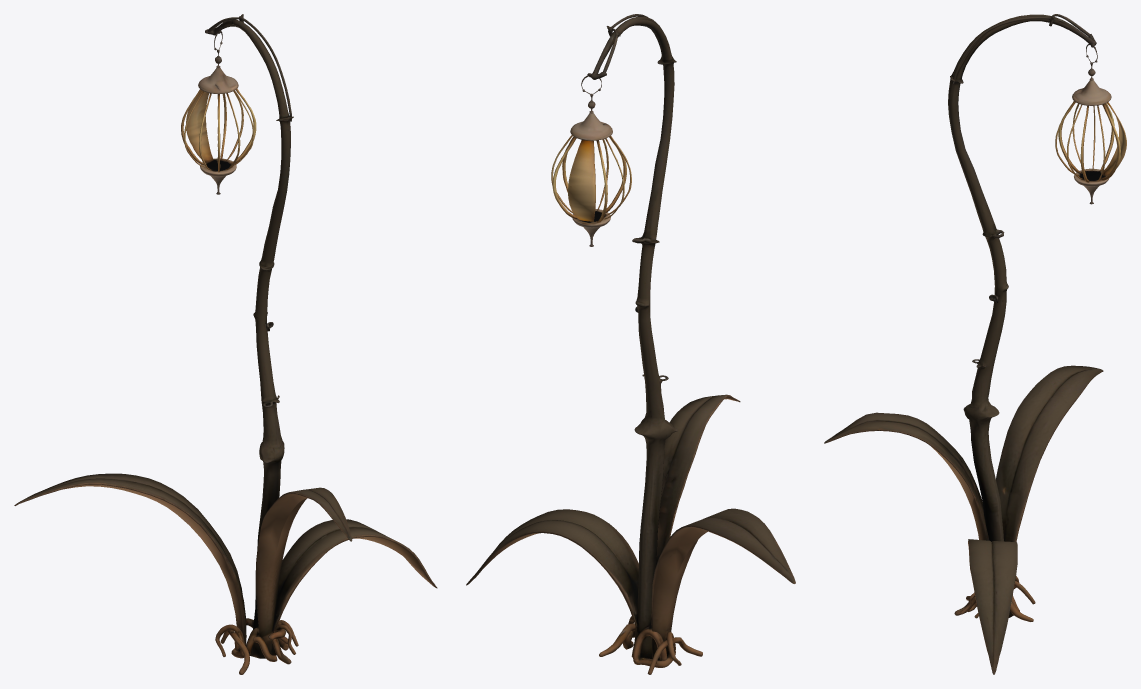
Rendered from lantern-plant.glb.
3 renders of one model, left to right at view 1: azimuth 30°, elevation 25°; view 2: azimuth 150°, elevation 25°; view 3: azimuth 270°, elevation 25°, orthographic. The views are drawn at different scales.
Parts seen in each view (by area): view 1: tripo_node_9c060788-7029-4d16-bc35-7ec16fe470c0; view 2: tripo_node_9c060788-7029-4d16-bc35-7ec16fe470c0; view 3: tripo_node_9c060788-7029-4d16-bc35-7ec16fe470c0.
Boxes of the visible parts, box(x1,y1,x2,y2) form: tripo_node_9c060788-7029-4d16-bc35-7ec16fe470c0: box(14, 14, 437, 674); tripo_node_9c060788-7029-4d16-bc35-7ec16fe470c0: box(466, 14, 795, 674); tripo_node_9c060788-7029-4d16-bc35-7ec16fe470c0: box(824, 14, 1126, 674).
Size of the model in its own units: 0.6226 by 0.9995 by 0.4536.
Materials: 1 (1 with a texture image).
